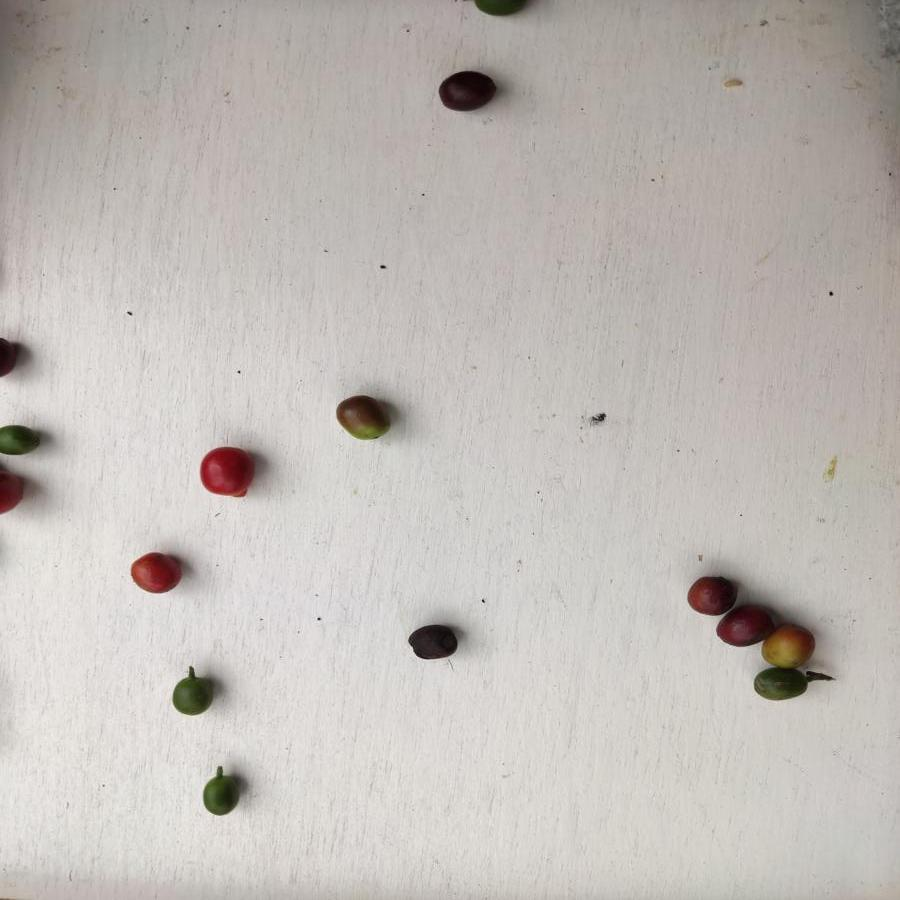Inmaduro: (431, 68, 502, 112), (713, 602, 766, 648), (684, 574, 740, 617), (405, 625, 463, 663), (168, 676, 217, 717), (750, 668, 810, 701), (200, 773, 244, 816), (1, 419, 40, 455)
Maduro: (194, 445, 259, 497), (129, 550, 184, 595)
Pinton: (335, 393, 390, 440), (761, 624, 817, 669)
